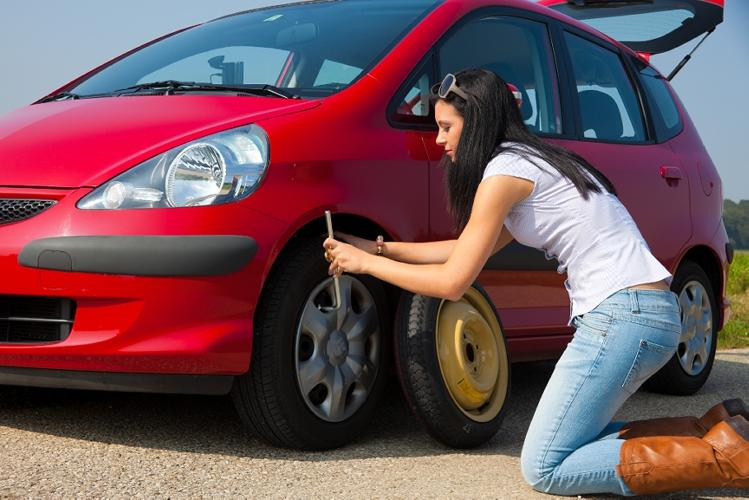person: (321, 68, 749, 497)
